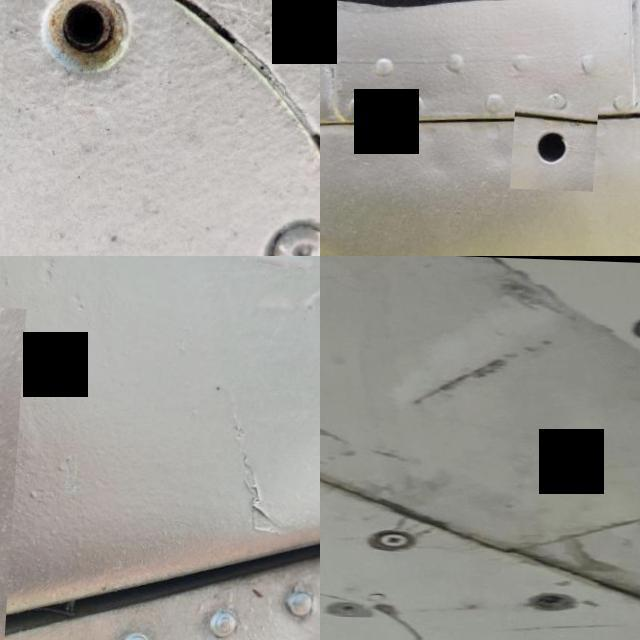Missing_Fastener: (5, 0, 179, 105), (514, 98, 602, 190), (532, 587, 578, 610), (627, 308, 640, 342)
